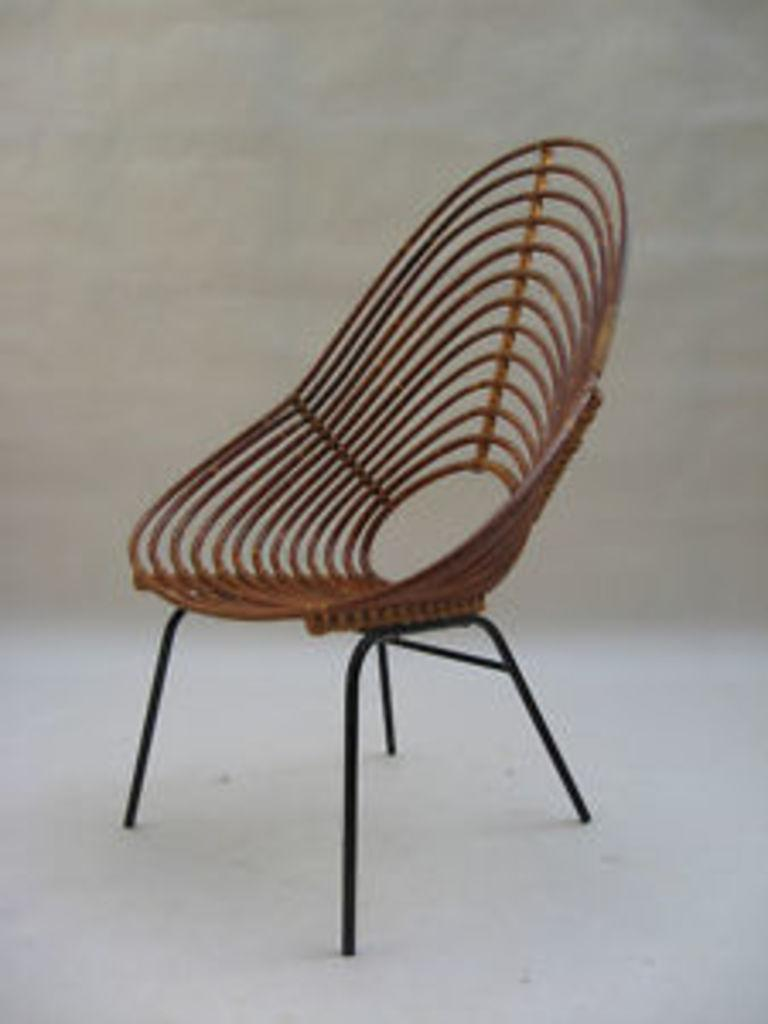Chair: (109, 140, 631, 969)
